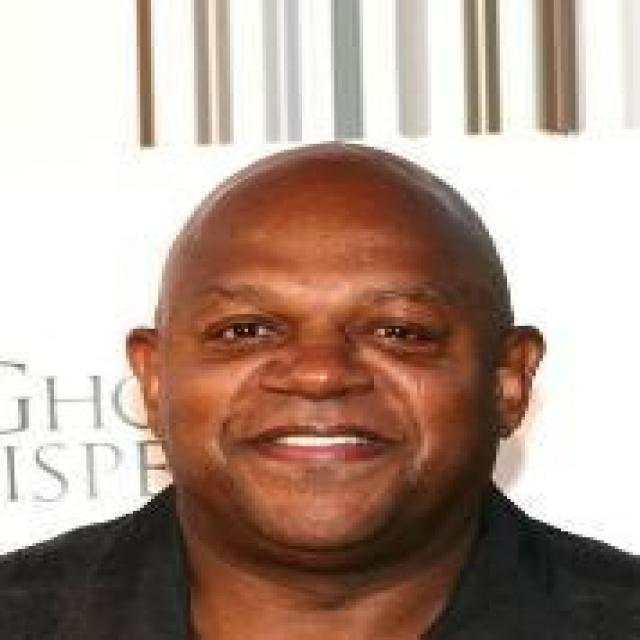nomask: (101, 115, 622, 543)
